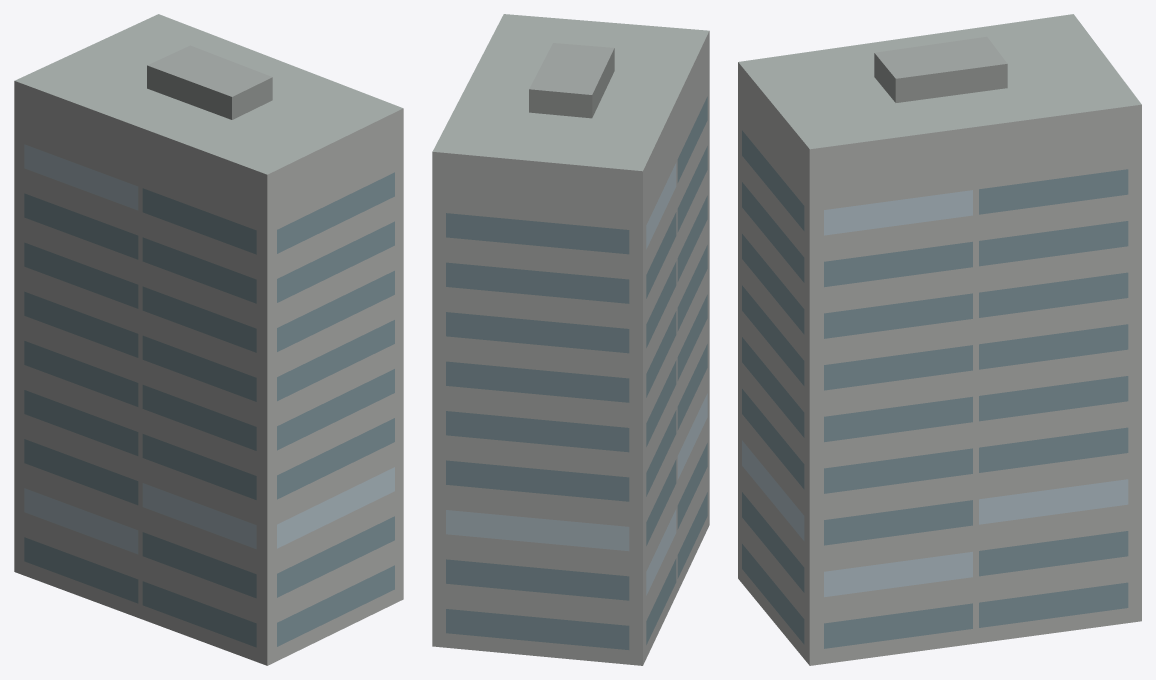
File: apt-a13587603.glb
3 views of the same model, side by side, from view 1: azimuth 30°, elevation 25°; view 2: azimuth 150°, elevation 25°; view 3: azimuth 270°, elevation 25° (orthographic). The views are drawn at different scales.
Visible parts, largest first — view 1: apt-a13587603; view 2: apt-a13587603; view 3: apt-a13587603.
Part boxes in pixels (x1,y1,x2,y2): apt-a13587603: [14, 14, 403, 665]; apt-a13587603: [432, 14, 709, 665]; apt-a13587603: [738, 14, 1141, 665].
Size of the model in its own units: 18.24 by 34 by 23.
